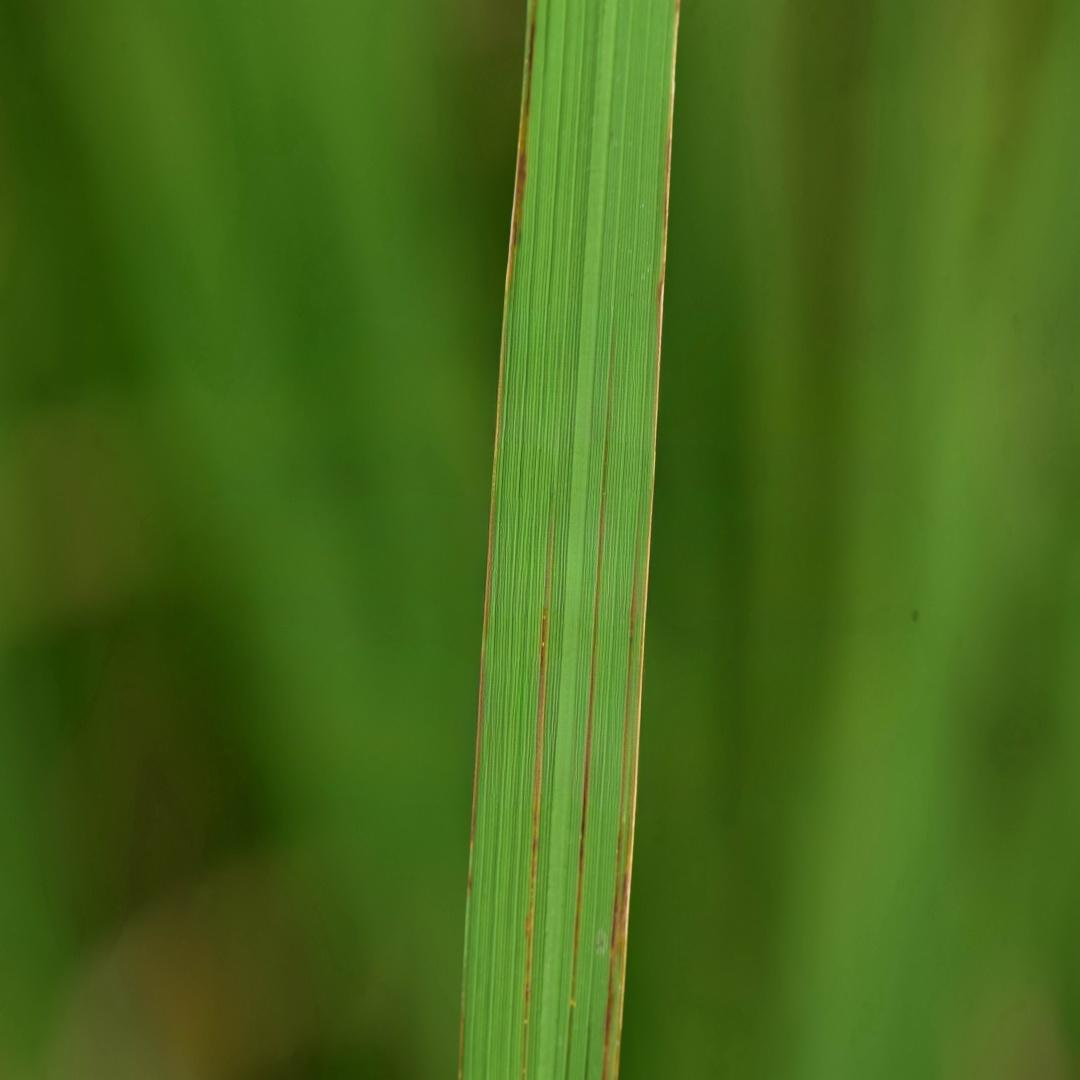BLS: (603, 0, 679, 1079), (470, 0, 539, 849), (522, 592, 550, 1079), (574, 521, 603, 955), (458, 983, 466, 1079)
LEAF: (456, 1, 677, 1079)
